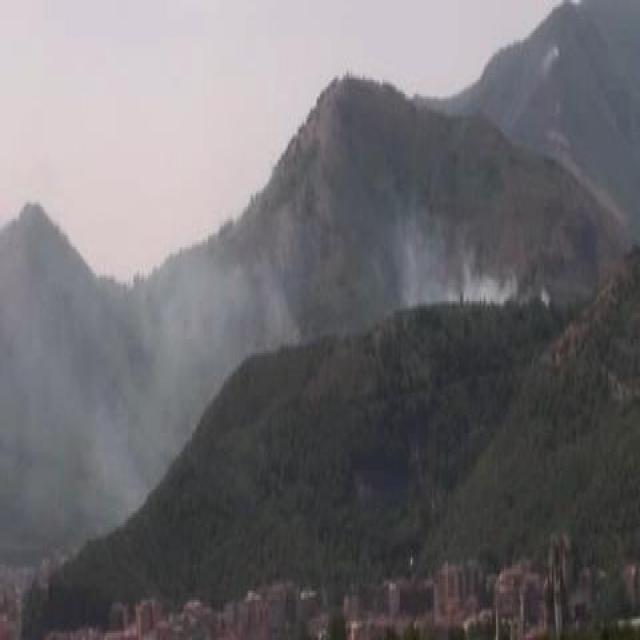Smoke: (395, 256, 509, 308)
